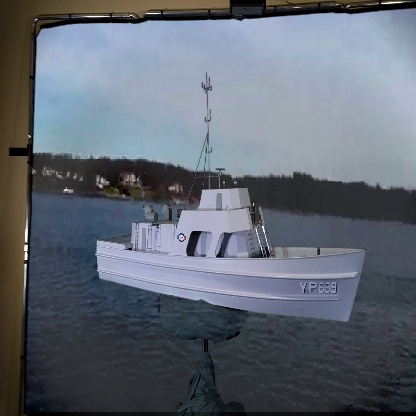YP689: (96, 73, 368, 325)
